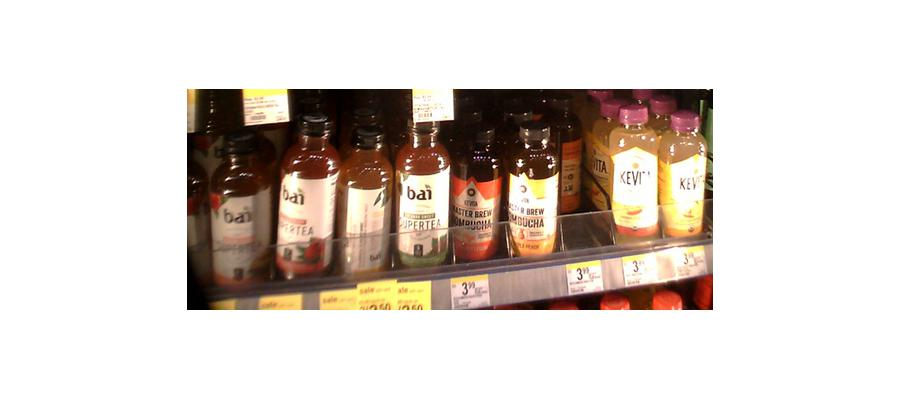bottle: (277, 110, 340, 284), (211, 131, 274, 289), (507, 107, 569, 258), (394, 111, 451, 271), (447, 111, 504, 265), (603, 98, 662, 243), (340, 118, 393, 276), (660, 107, 708, 241)
